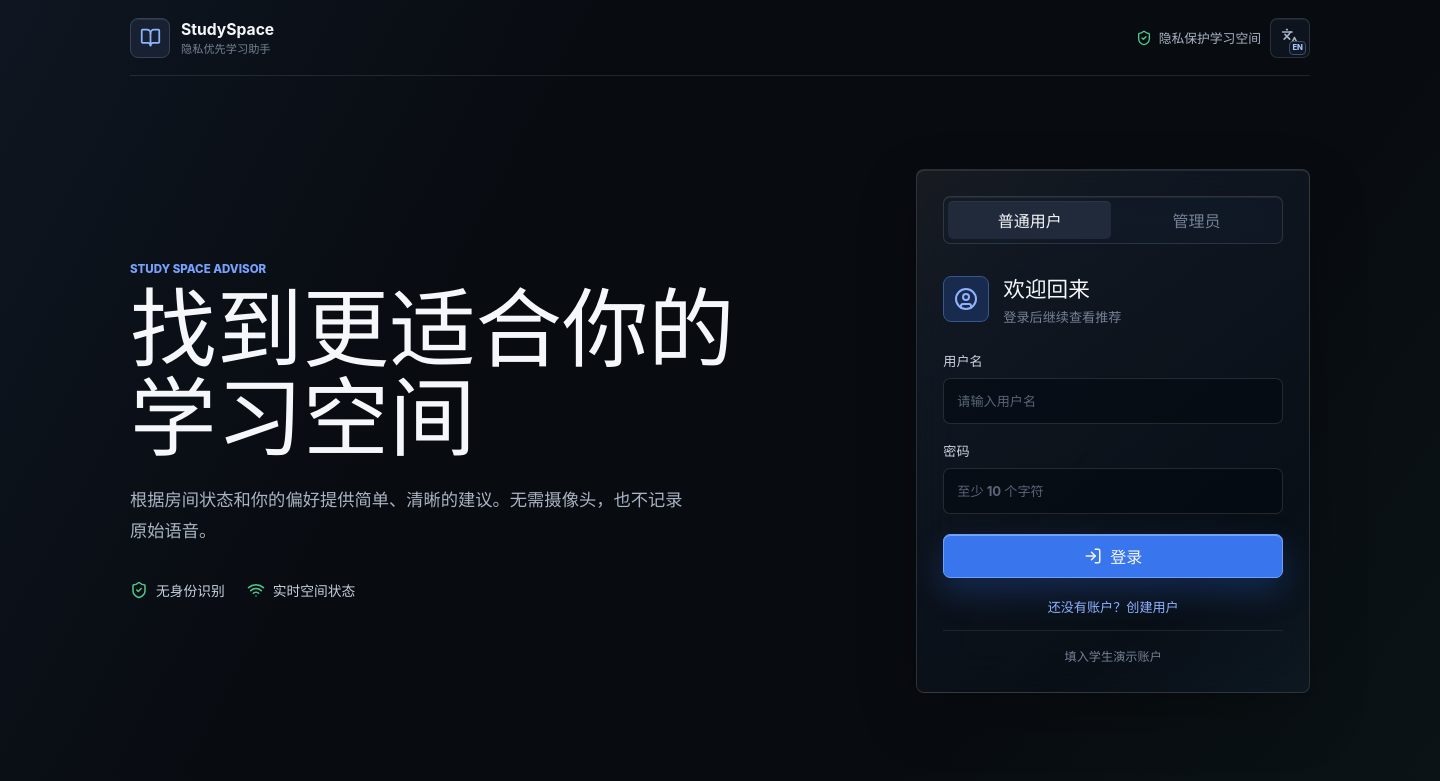
Test: App › stores preferences and changes the personalized top room
Click the button "填入学生演示账户" at (1113, 648), box [943, 630, 1283, 666]
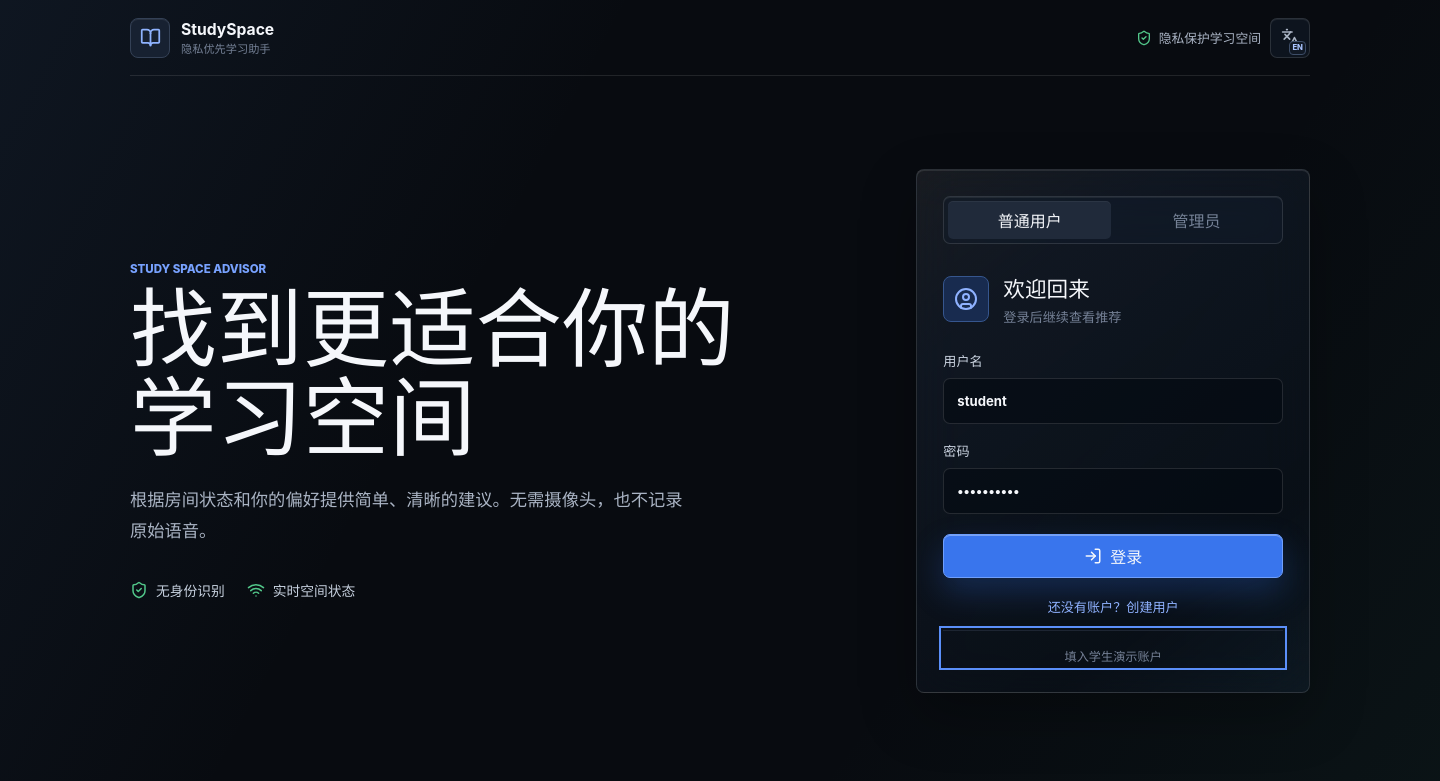
Click the button "登录" at (1113, 556), box [943, 534, 1283, 578]
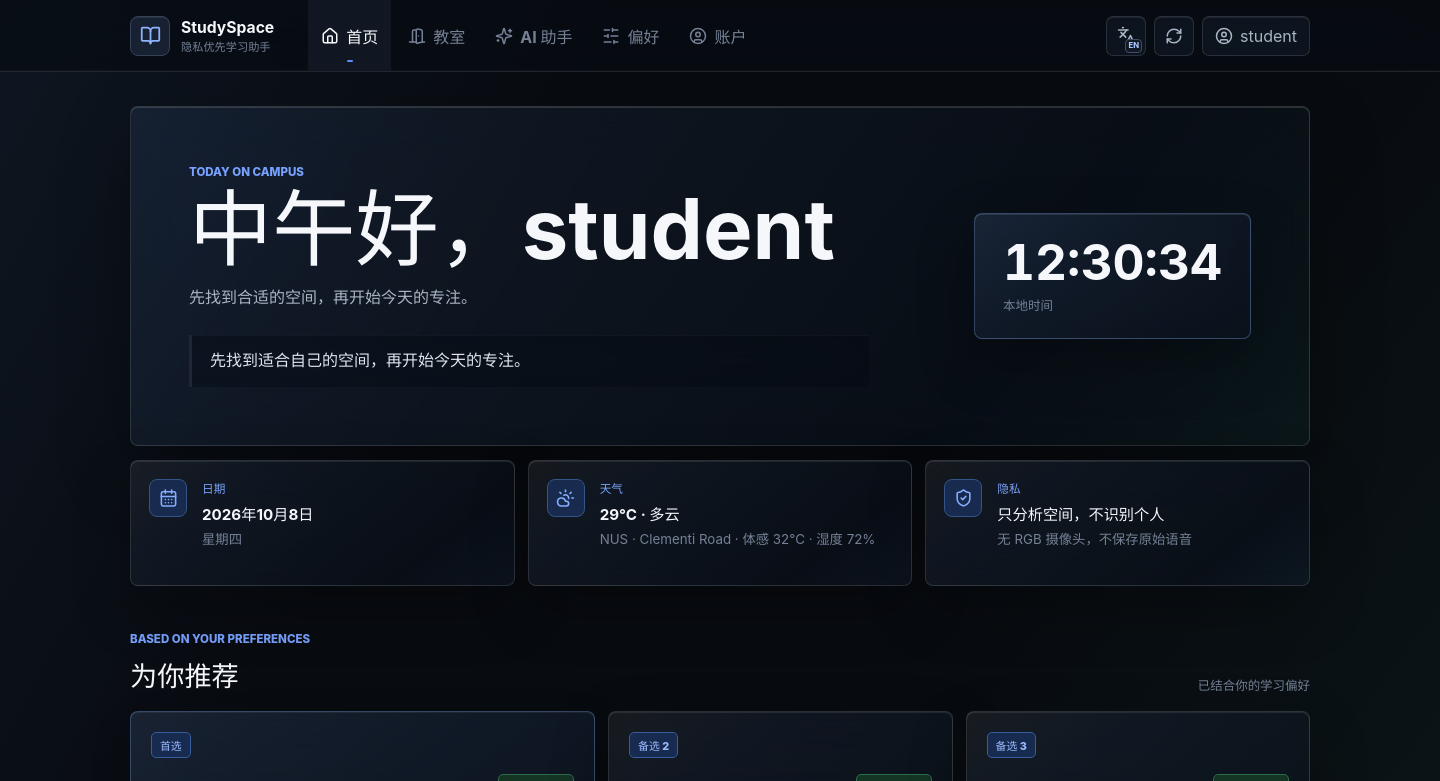
Expected: the heading "为你推荐" is shown, [130, 660, 239, 693]
Click the button "偏好" at (631, 36), box [590, 0, 672, 71]
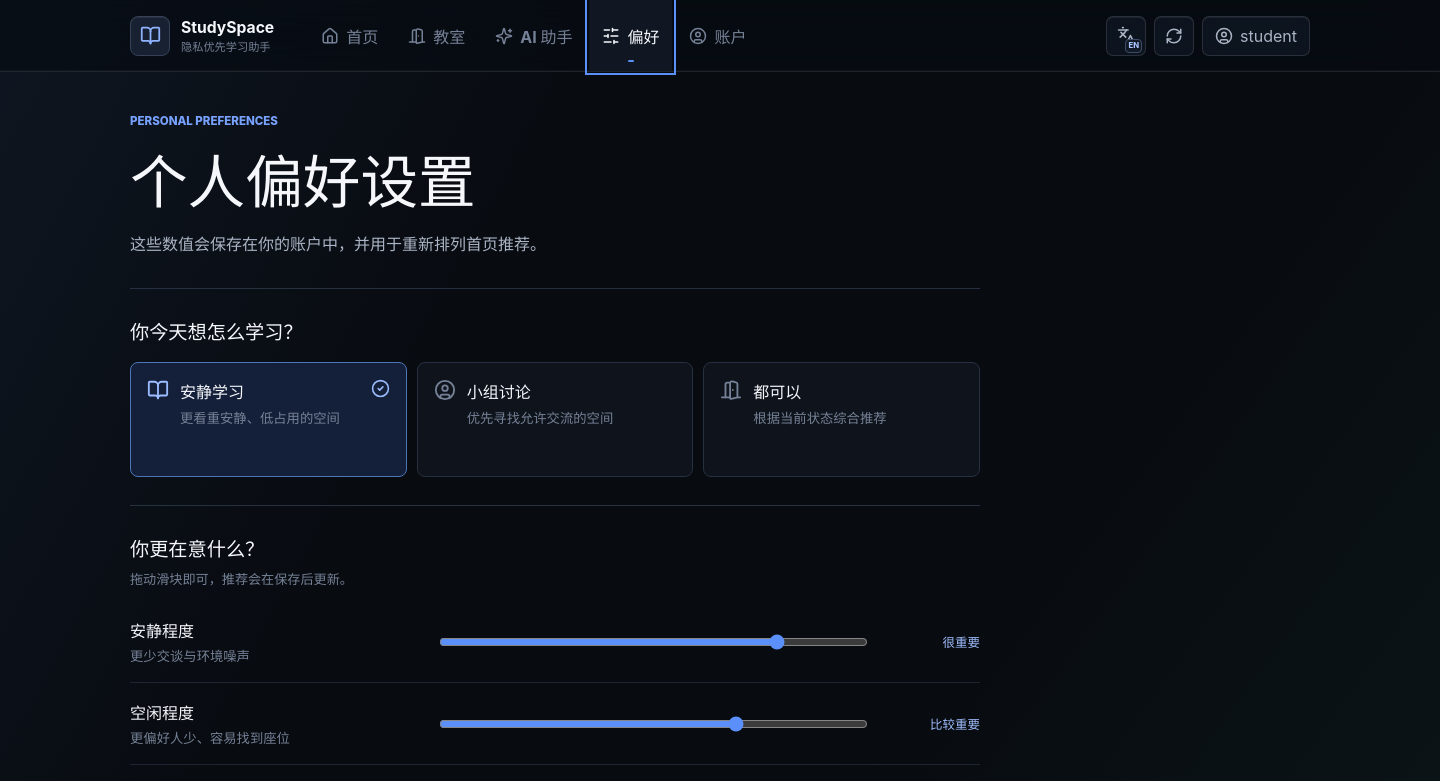
Click the button "小组讨论 优先寻找允许交流的空间" at (555, 420), box [417, 362, 693, 477]
(page scrolled)
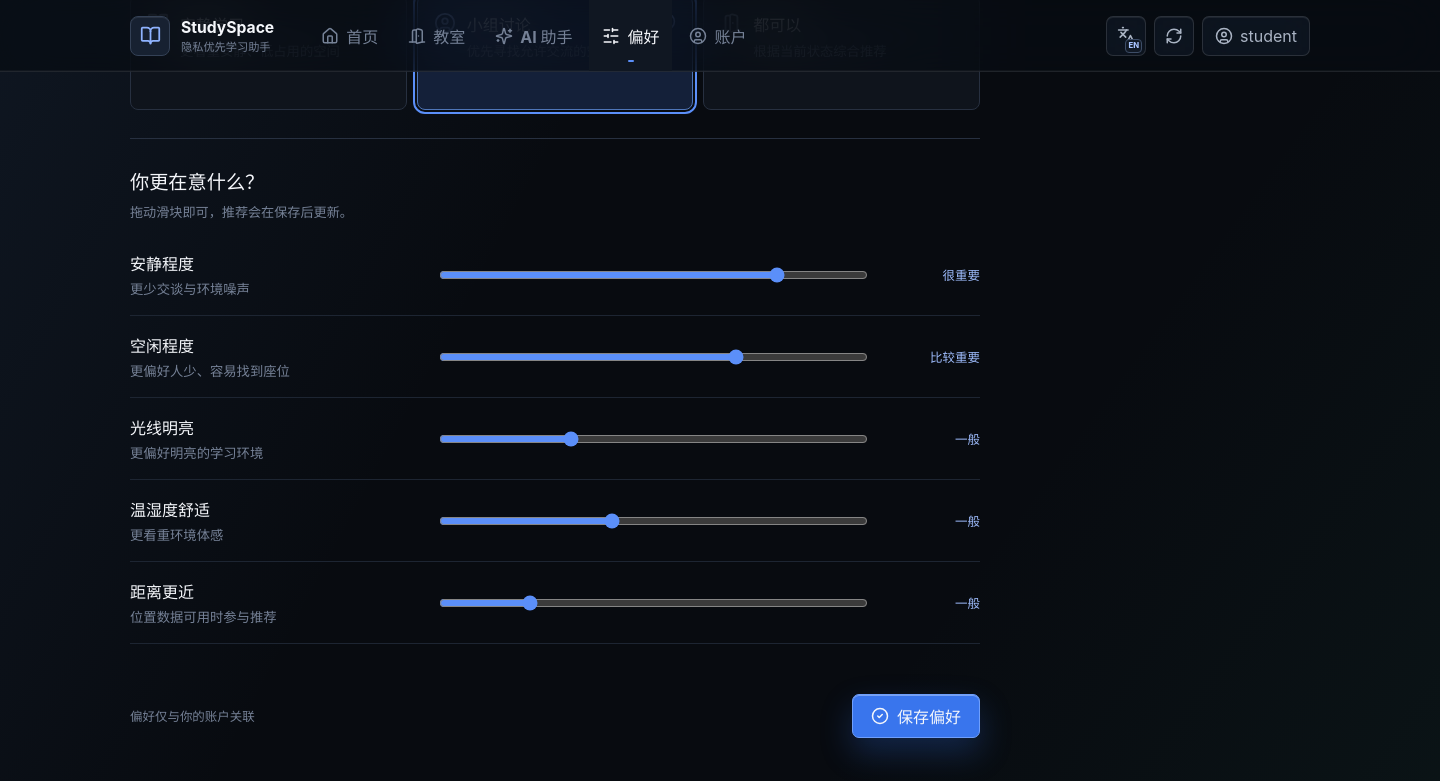
Click the button "保存偏好" at (916, 716), box [852, 694, 980, 738]
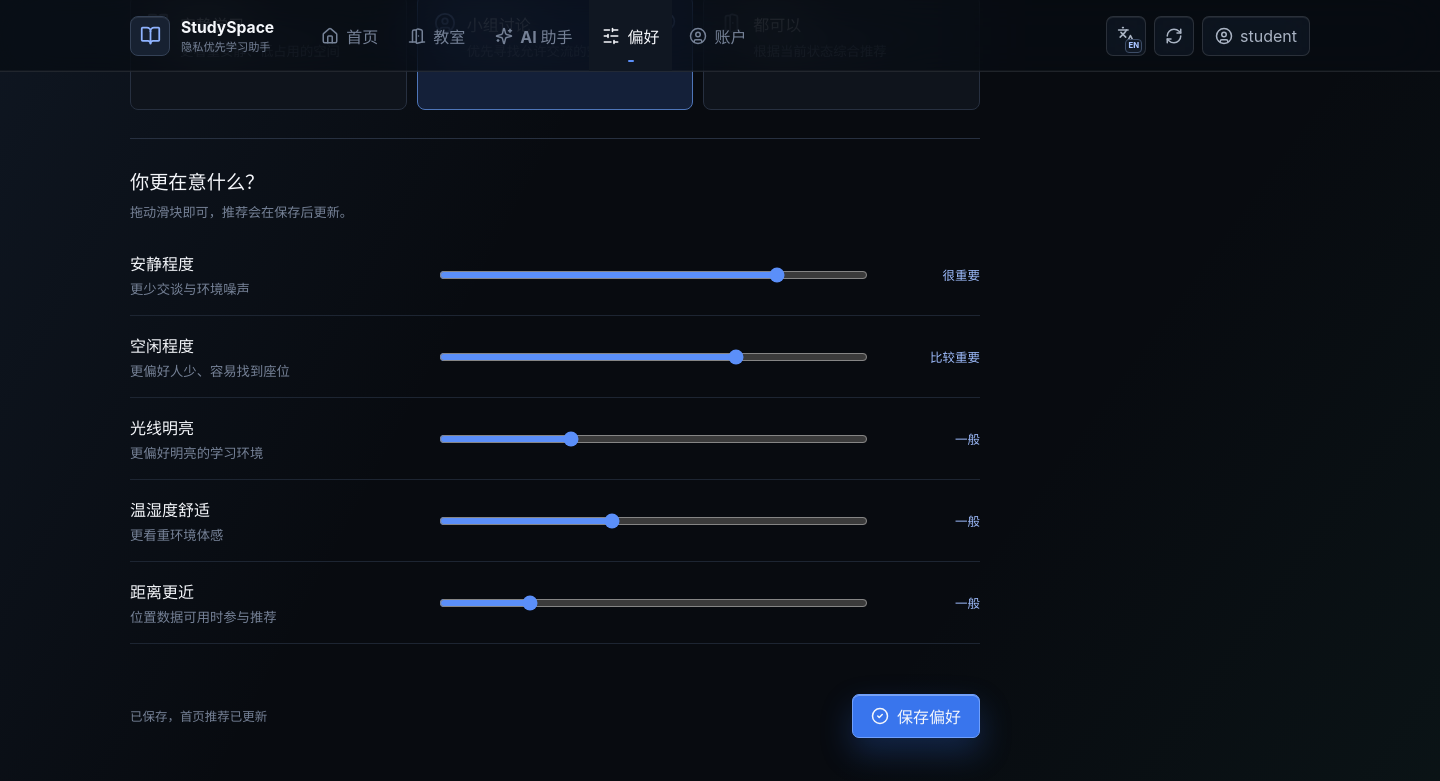
Expected: the text "已保存，首页推荐已更新" is shown, [130, 707, 267, 725]
Click the button "首页" at (350, 36), box [308, 0, 391, 71]
(page scrolled)
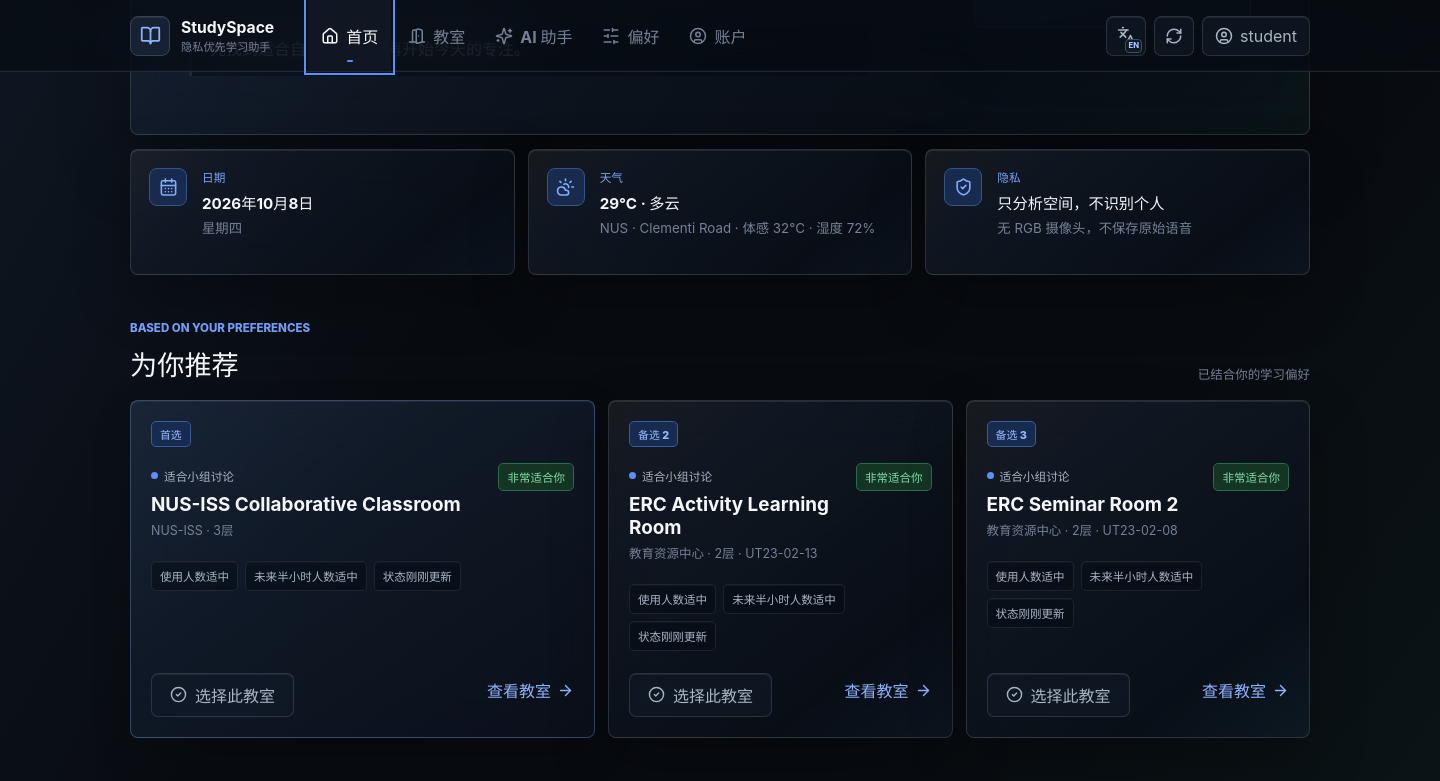
Expected: the heading "NUS-ISS Collaborative Classroom" is shown, [151, 493, 461, 516]
